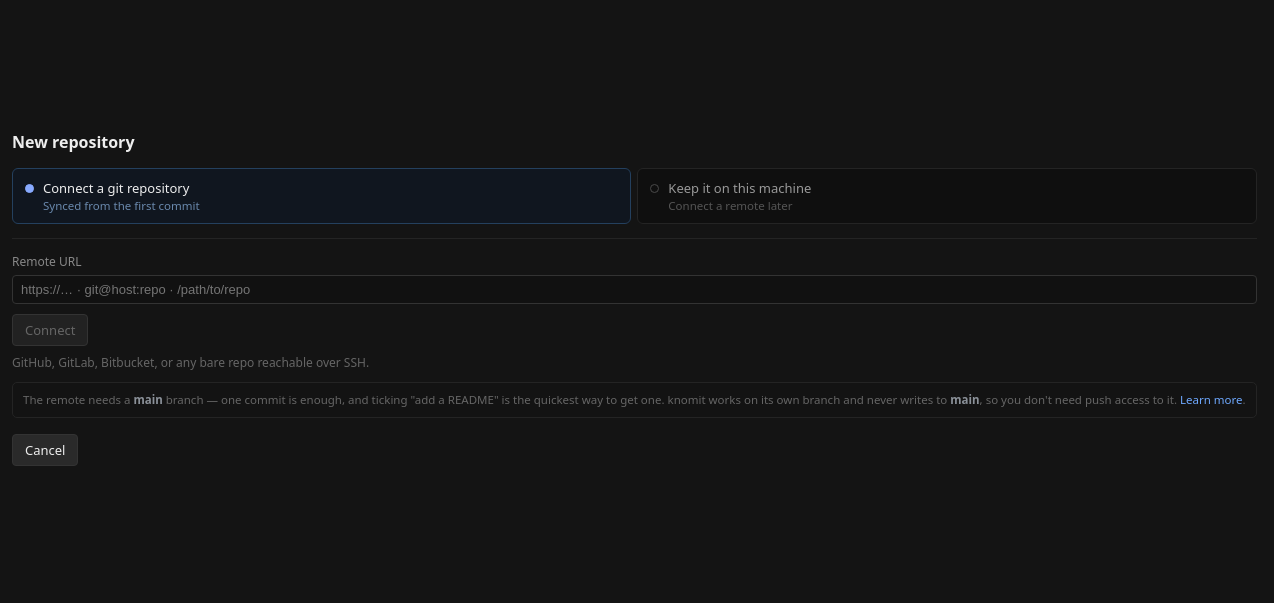
CreateRepoWizard › shows no ontology or review step in the rail while the check is unestablished
This screenshot has width=1274, height=603.
In the field with test id "create-url": (634, 290) [12,275,1257,304], type "https://h/r.git"
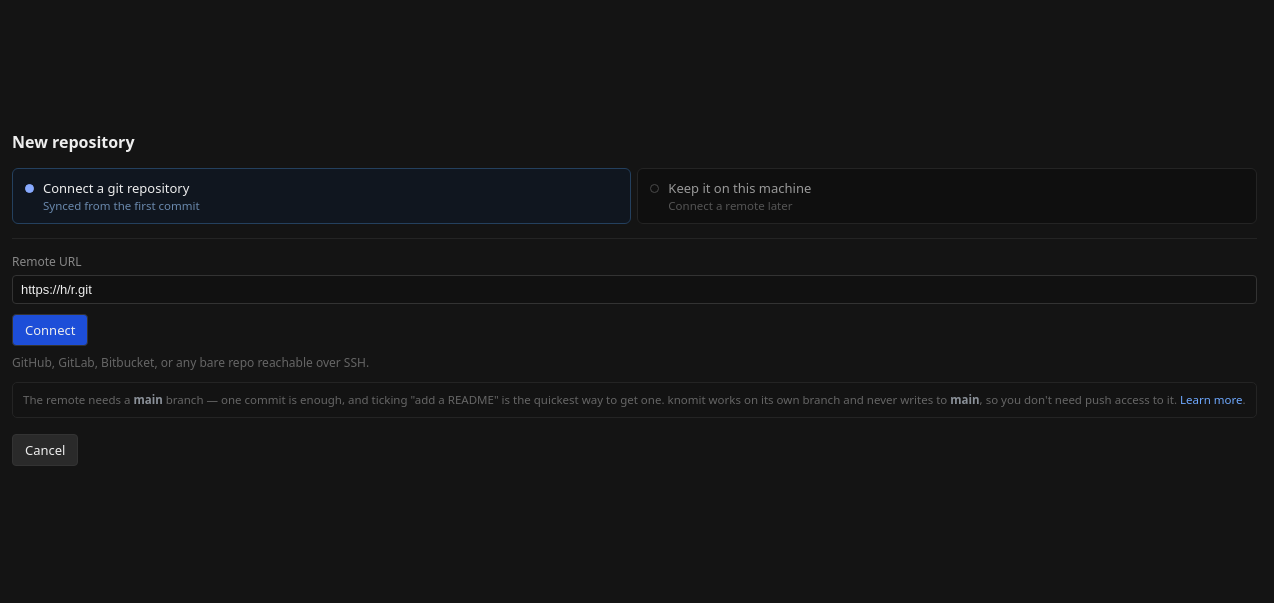
Click the button with test id "probe-button": (50, 330) [12,314,88,346]
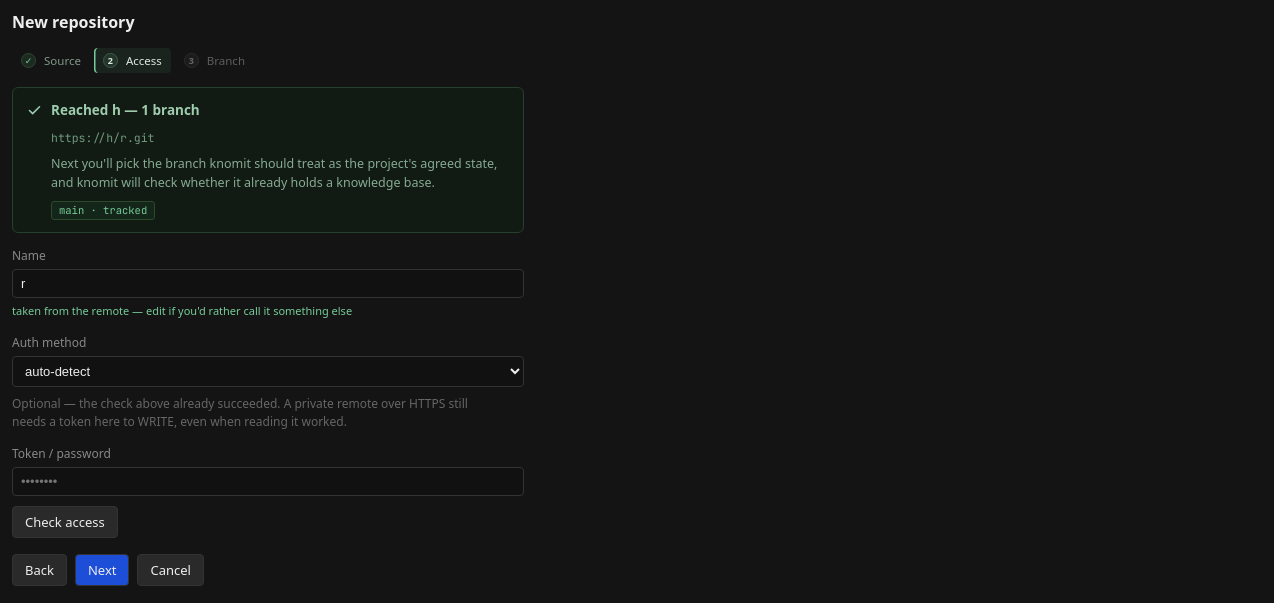
Result: the element with test id "step-access" is shown at [12,87,524,538]
Result: the text "Branch" is shown at [207,52,245,69]
